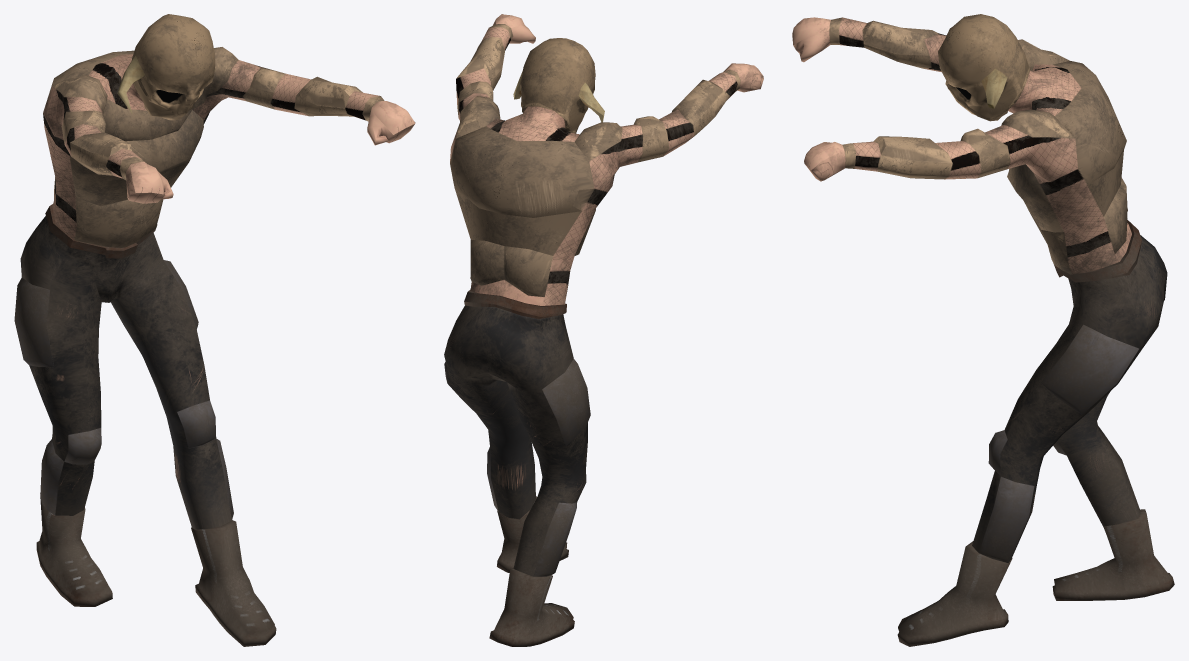
Rendered from Anim_ataque_d3_npc1.0046.obj.
3 views of the same model, side by side, from view 1: azimuth 30°, elevation 25°; view 2: azimuth 150°, elevation 25°; view 3: azimuth 270°, elevation 25° (orthographic). The views are drawn at different scales.
Parts seen in each view (by area): view 1: NPC2; view 2: NPC2; view 3: NPC2.
Boxes of the visible parts, left/top/right/bottom form: NPC2: left=14, top=14, right=415, bottom=646; NPC2: left=444, top=14, right=763, bottom=646; NPC2: left=792, top=14, right=1174, bottom=646.
Bounding box in the file's own units: 4.43 × 8.83 × 5.09.
